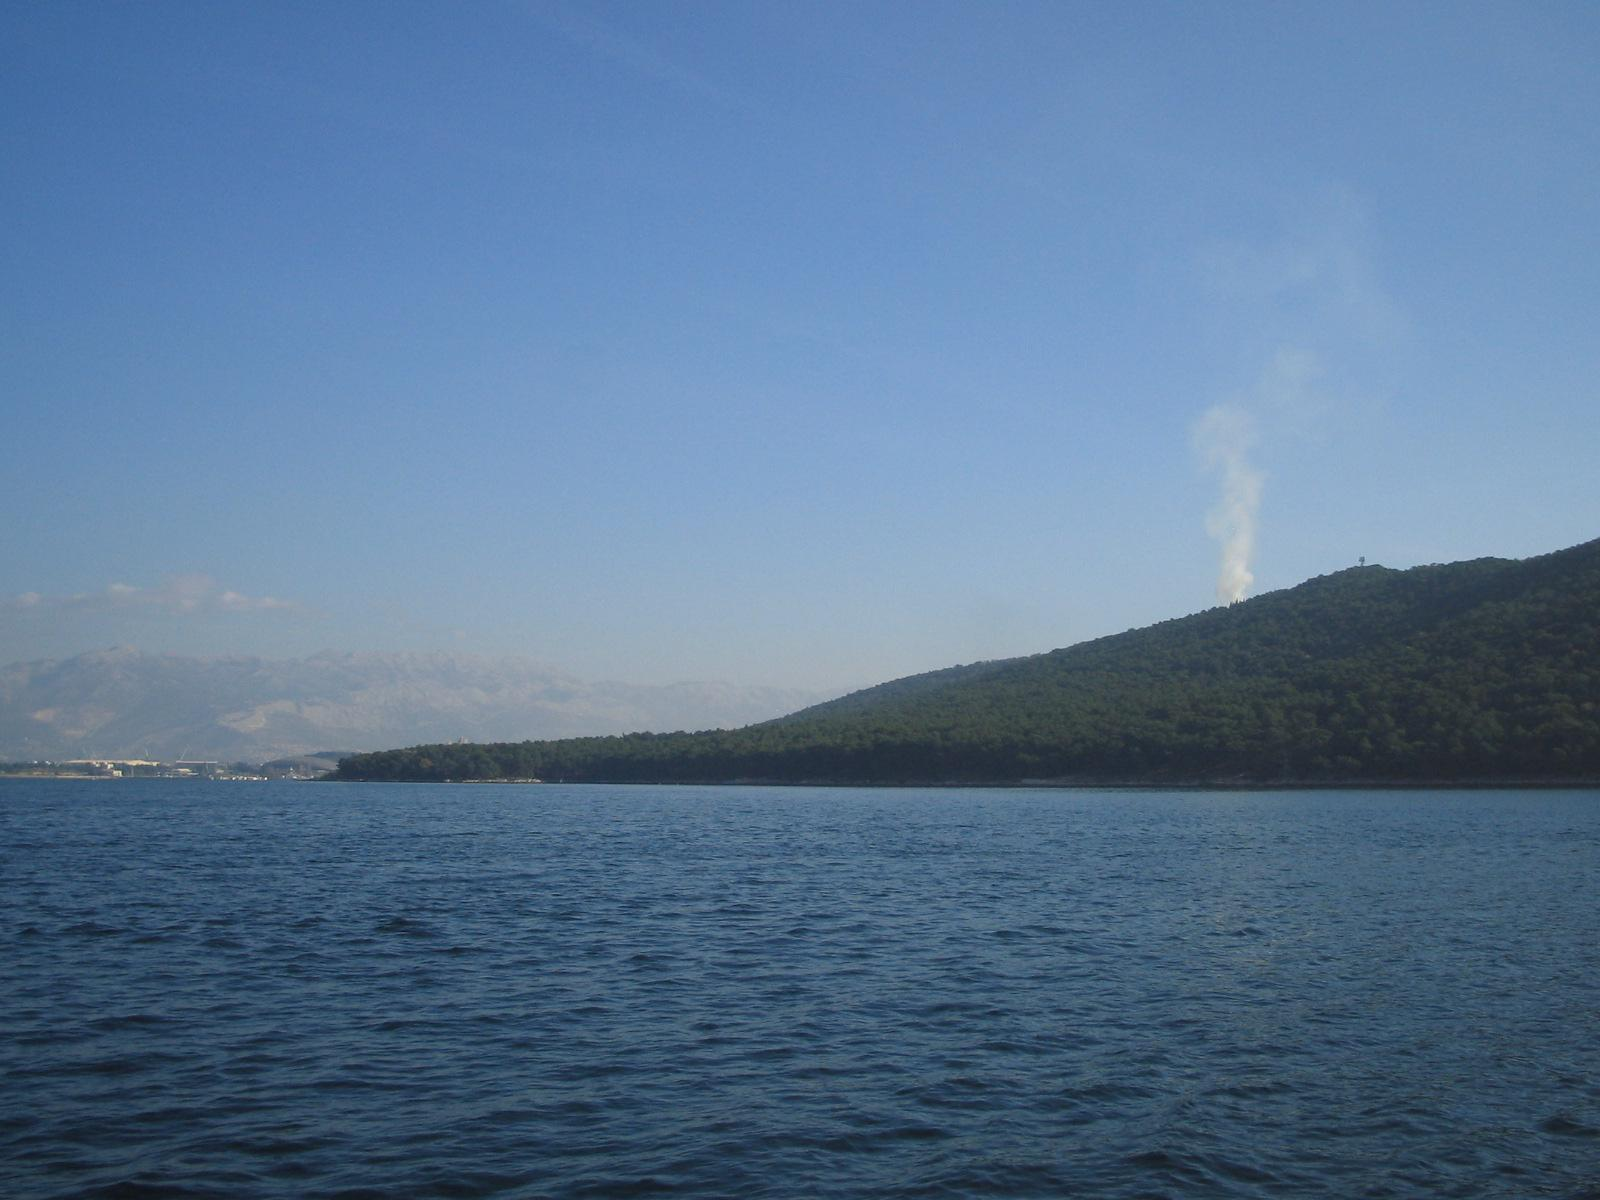Smoke: (1184, 377, 1315, 638)
